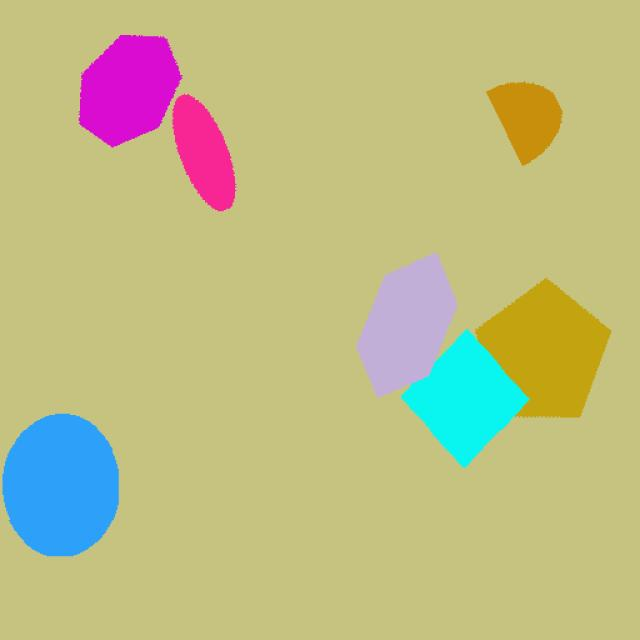Circle: (0, 404, 139, 561)
Heptagon: (62, 25, 196, 158)
Hexagon: (338, 242, 461, 407)
Oval: (160, 67, 262, 226)
Pentagon: (474, 275, 624, 437)
Semicircle: (482, 67, 580, 179)
square: (406, 321, 536, 465)
